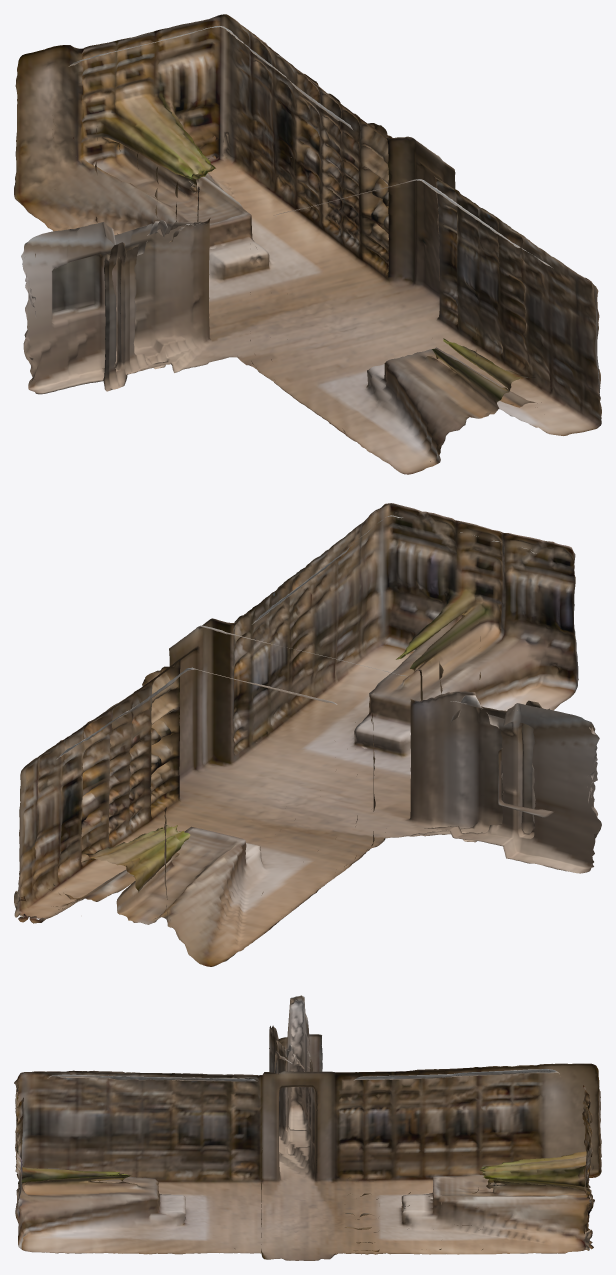
Rendered from Luxurious Master Dressing Room_collider.glb.
The picture shows the model from 3 angles, top to bottom: view 1: azimuth 30°, elevation 25°; view 2: azimuth 150°, elevation 25°; view 3: azimuth 270°, elevation 25°; orthographic projection. The views are drawn at different scales.
Visible parts, largest first — view 1: world; view 2: world; view 3: world.
Part boxes in pixels (bbox=[...]): world: bbox=[14, 14, 601, 474]; world: bbox=[14, 503, 601, 966]; world: bbox=[14, 995, 601, 1260].
Bounding box in the file's own units: 8.48 × 3.18 × 13.65.
